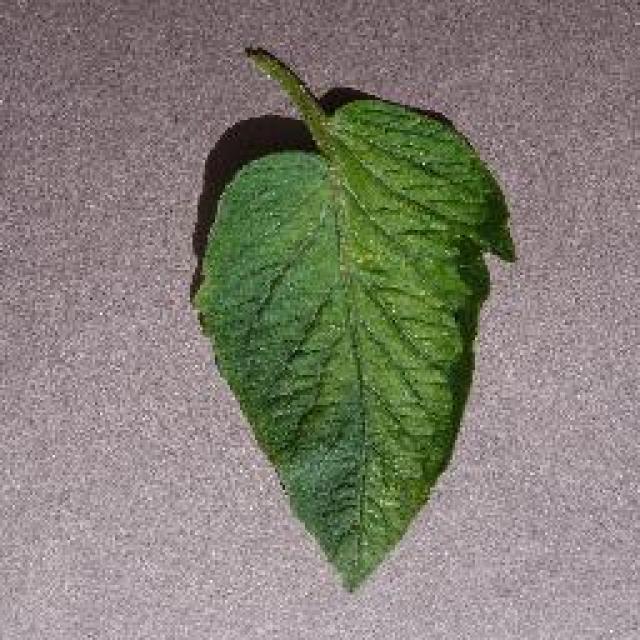Tomato___Spider_mites Two-spotted_spider_mite: (195, 48, 512, 588)
